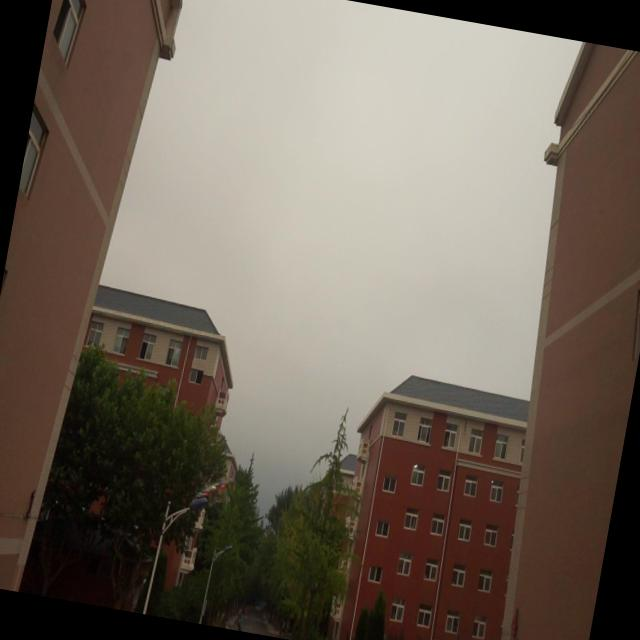drone: (198, 476, 228, 508)
